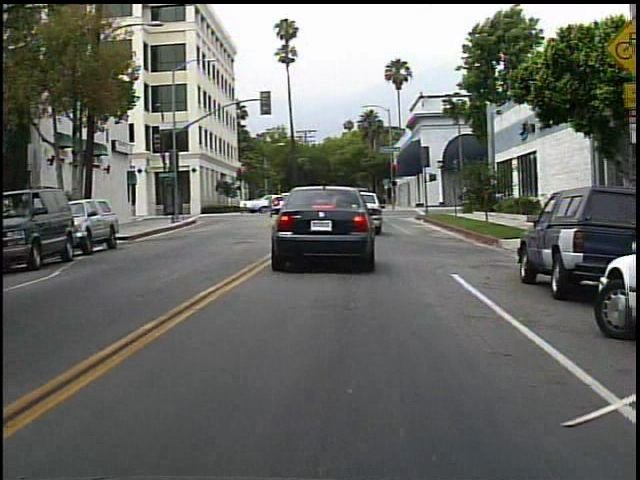person: (262, 188, 282, 222)
